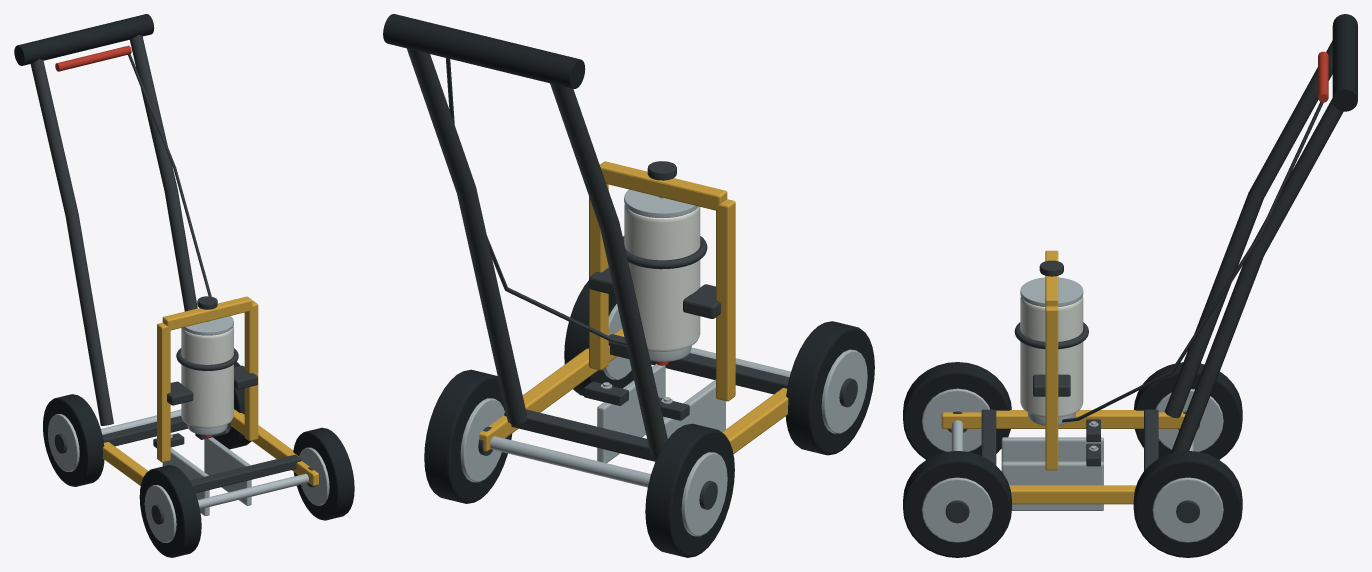
Rendered from city-aerosol-line-marking-trolley.glb.
3 views of the same model, side by side, from view 1: azimuth 30°, elevation 25°; view 2: azimuth 150°, elevation 25°; view 3: azimuth 270°, elevation 25° (orthographic). The views are drawn at different scales.
Parts seen in each view (by area): view 1: Assembly | Dark powder coated structure, Assembly | Matte dark grip rubber, Assembly | Satin metal fittings, Assembly | Warm safety yellow polymer, Assembly | Ivory casing and scale marks, Assembly | Red control accent; view 2: Assembly | Matte dark grip rubber, Assembly | Dark powder coated structure, Assembly | Satin metal fittings, Assembly | Warm safety yellow polymer, Assembly | Ivory casing and scale marks; view 3: Assembly | Matte dark grip rubber, Assembly | Dark powder coated structure, Assembly | Satin metal fittings, Assembly | Warm safety yellow polymer, Assembly | Ivory casing and scale marks.
Boxes of the visible parts, x1,y1,x2,y2 form: Assembly | Dark powder coated structure: (30,35,315,524); Assembly | Matte dark grip rubber: (14,14,354,557); Assembly | Satin metal fittings: (48,316,329,542); Assembly | Warm safety yellow polymer: (102,296,318,485); Assembly | Ivory casing and scale marks: (181,326,233,428); Assembly | Red control accent: (55,45,211,437); Assembly | Matte dark grip rubber: (383,14,874,557); Assembly | Dark powder coated structure: (407,48,857,509); Assembly | Satin metal fittings: (460,189,867,536); Assembly | Warm safety yellow polymer: (479,161,788,453); Assembly | Ivory casing and scale marks: (624,205,700,351); Assembly | Matte dark grip rubber: (903,14,1357,557); Assembly | Dark powder coated structure: (945,40,1343,523); Assembly | Satin metal fittings: (922,277,1223,542); Assembly | Warm safety yellow polymer: (941,250,1198,504); Assembly | Ivory casing and scale marks: (1020,296,1083,417).
Size of the model in its own units: 0.4763 by 0.964 by 0.868.
